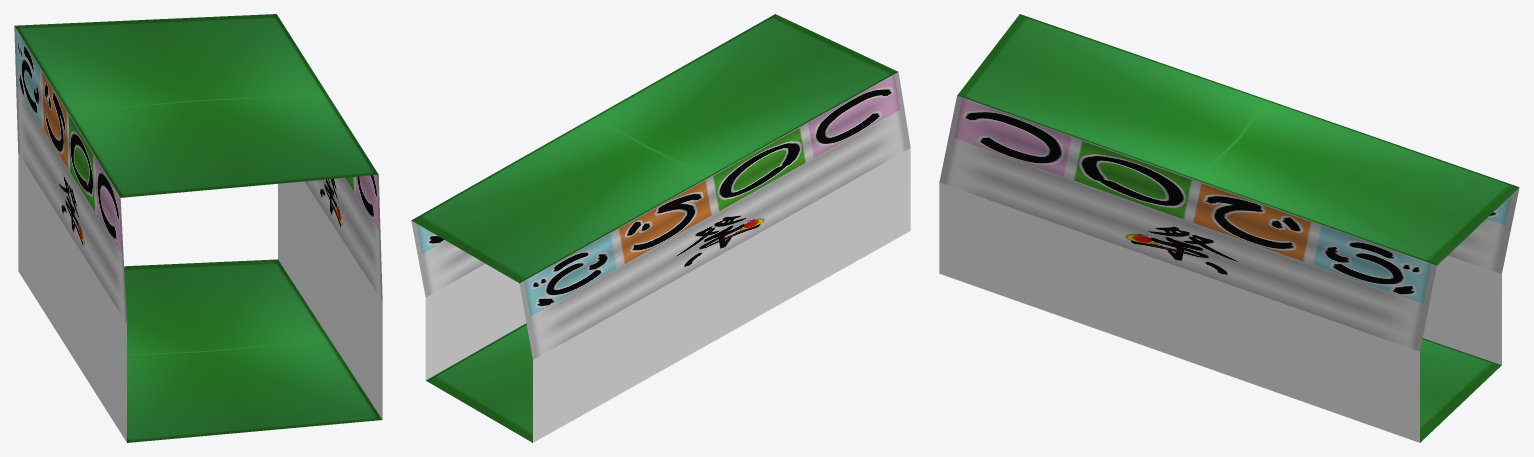
The picture shows the model from 3 angles, left to right: view 1: azimuth 30°, elevation 25°; view 2: azimuth 150°, elevation 25°; view 3: azimuth 270°, elevation 25°; orthographic projection. The views are drawn at different scales.
Parts seen in each view (by area): view 1: polySurface97; view 2: polySurface97; view 3: polySurface97.
Boxes of the visible parts, x1,y1,x2,y2 form: polySurface97: (14, 14, 382, 442); polySurface97: (411, 14, 910, 442); polySurface97: (939, 14, 1519, 442).
Bounding box in the file's own units: 3.82 × 2.98 × 5.76.
